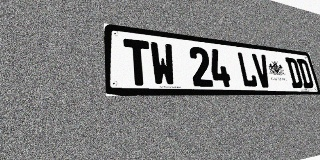2: (188, 46, 213, 87)
4: (208, 48, 232, 87)
D: (285, 57, 304, 88), (296, 58, 314, 88)
L: (236, 51, 258, 87)
T: (123, 38, 152, 86)
V: (252, 53, 273, 88)
W: (149, 41, 177, 86)
